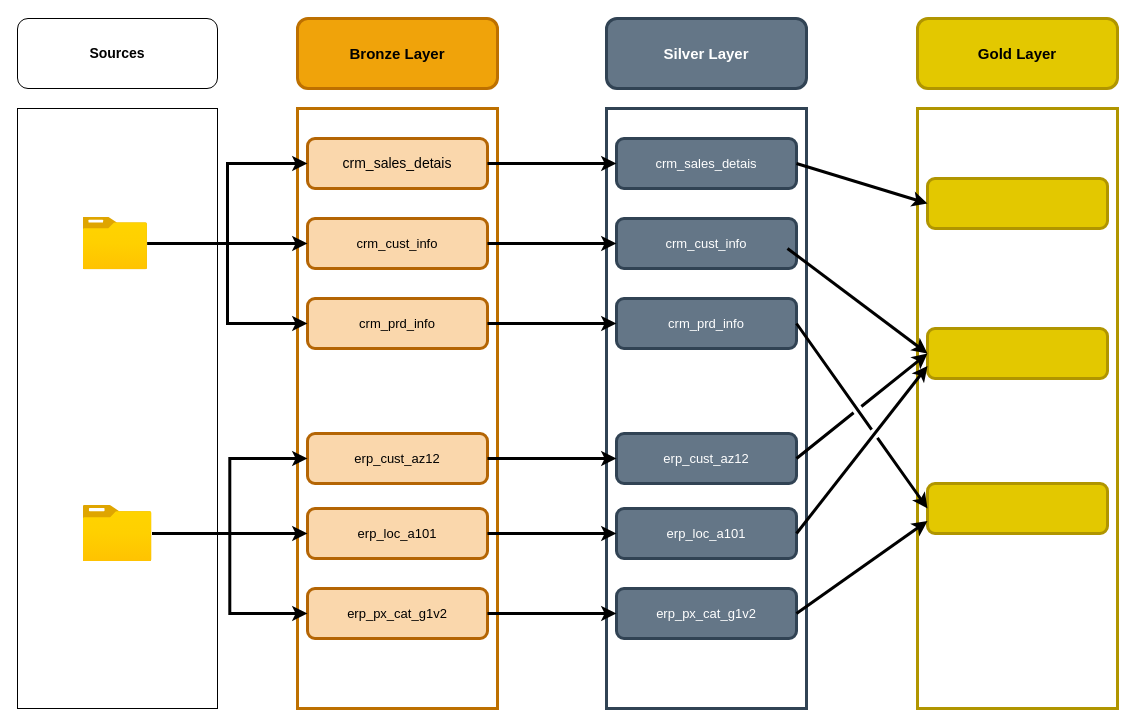
The diagram is 1136 pixels wide and 727 high, and some of its shapes have lost their labels. Here are the shapes that lost their labels. From the top down, the box of each, then its label:
(926, 176, 1108, 230): fact_sales
(82, 217, 147, 269): CRM
(926, 326, 1108, 380): dim_customers
(926, 482, 1108, 534): dim_products
(82, 505, 152, 561): ERP
